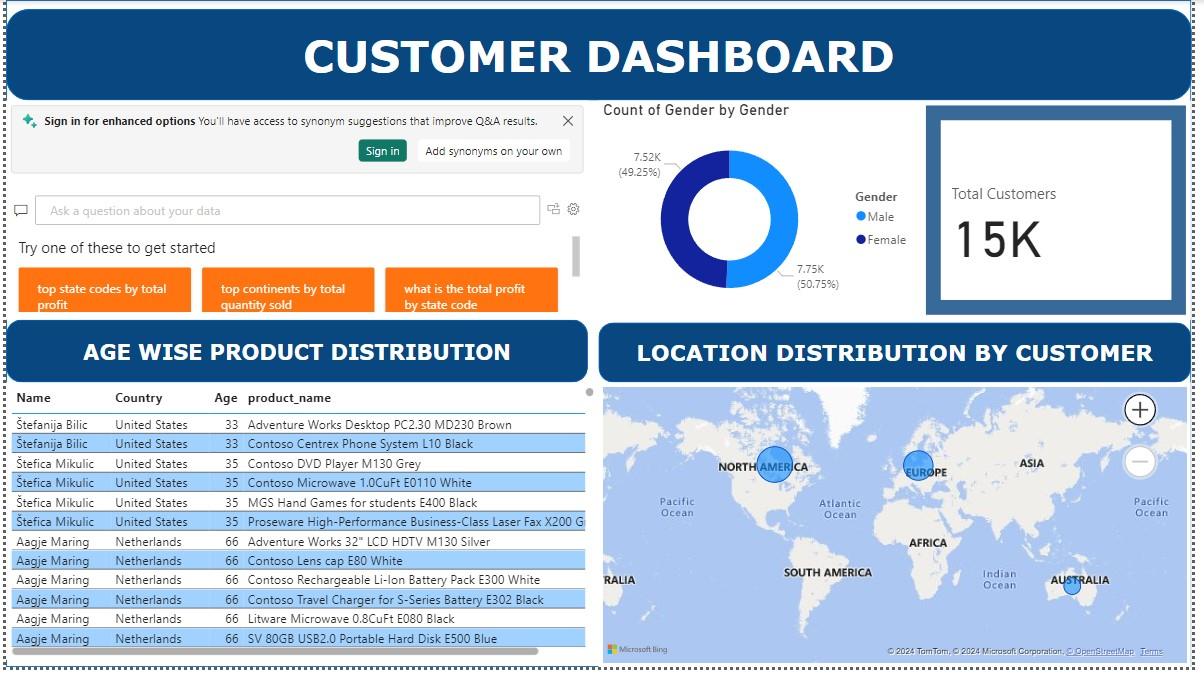

This screenshot's page, from the dashboard's own definition file:
{"tool":"powerbi","page":{"name":"customers","canvas":[1280,720],"ordinal":0},"visuals":[{"type":"shape","box":[0,0,1279.4,720],"z":0},{"type":"shape","box":[0,10,1280,98.8],"z":1000},{"type":"shape","box":[0,344.9,628.3,68],"z":2000},{"type":"shape","box":[639.6,348.1,639.6,64.8],"z":3000},{"type":"qnaVisual","box":[0,108.5,628.3,236.4],"z":4000},{"type":"donutChart","fields":{"Category":["dataspark customers.Gender"],"Y":["dataspark customers.Gender"]},"box":[639.6,108.5,348.1,236.4],"z":5000},{"type":"map","fields":{"Category":["dataspark customers.Continent"],"Size":["dataspark customers.Total Customers"]},"box":[639.6,412.9,639.6,307.7],"z":6000},{"type":"tableEx","fields":{"Values":["dataspark customers.Name","dataspark customers.Country","dataspark customers.Age","dataspark products.product_name"]},"box":[0,412.9,639.6,299.6],"z":7000},{"type":"cardVisual","fields":{"Data":["dataspark customers.Total Customers"]},"box":[987.7,108.5,291.5,236.4],"z":7001}]}

Visuals, with their boxes in screenshot pixels (x1, y1, x2, y2), scaled from the page's 1280x720 canvas onto the 1204x676 screenshot:
shape: bbox(0, 0, 1203, 675)
shape: bbox(0, 9, 1203, 102)
shape: bbox(0, 324, 591, 388)
shape: bbox(602, 327, 1203, 388)
qnaVisual: bbox(0, 102, 591, 324)
donutChart - dataspark customers.Gender x dataspark customers.Gender: bbox(602, 102, 929, 324)
map - dataspark customers.Continent x dataspark customers.Total Customers: bbox(602, 388, 1203, 675)
tableEx - dataspark customers.Name x dataspark customers.Country: bbox(0, 388, 602, 669)
cardVisual - dataspark customers.Total Customers: bbox(929, 102, 1203, 324)
